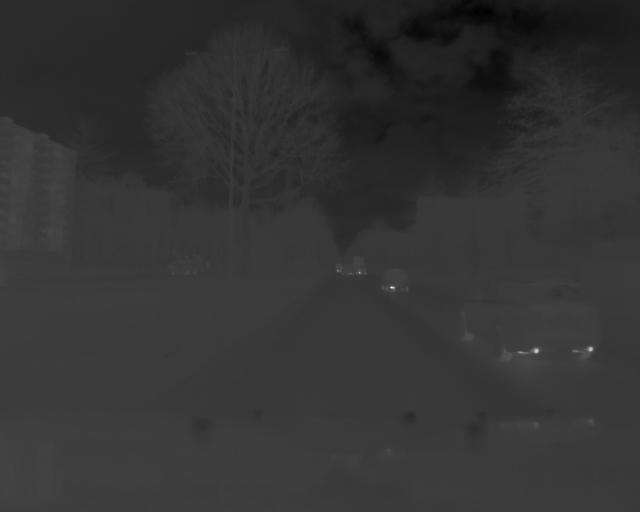car: (454, 274, 612, 365), (378, 267, 414, 296)
